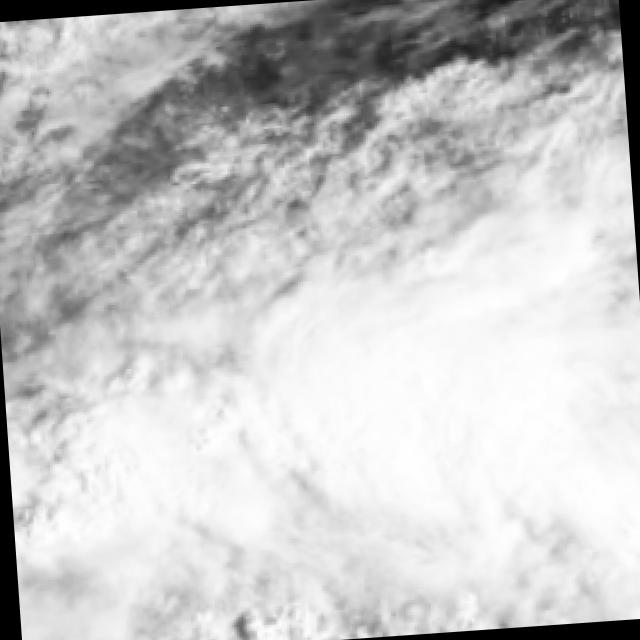CB: (298, 299, 577, 506)
